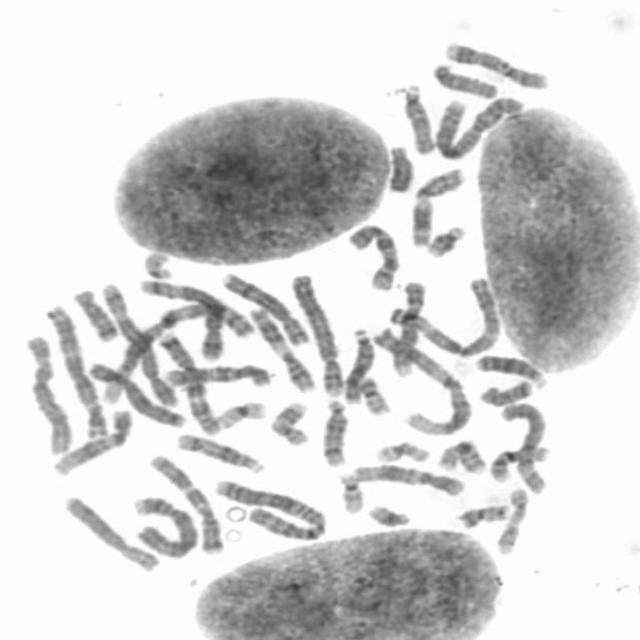A1: (94, 293, 254, 407), (368, 322, 474, 436)
A2: (209, 474, 328, 543), (429, 90, 527, 161)
A3: (40, 300, 110, 440), (391, 272, 501, 359)
B4: (286, 268, 347, 398), (130, 489, 203, 559)
B5: (94, 276, 181, 411), (133, 274, 230, 362)
C10: (342, 218, 403, 293), (158, 358, 274, 390)
C11: (244, 303, 317, 394), (406, 163, 468, 248)
C12: (48, 404, 136, 476), (348, 458, 467, 498)
C6: (20, 330, 74, 455), (495, 396, 550, 495)
C7: (144, 448, 227, 556), (152, 324, 225, 437)
C8: (59, 491, 162, 573), (216, 268, 313, 347)
C9: (441, 37, 551, 90), (389, 274, 430, 378)
D13: (472, 348, 551, 389), (338, 322, 376, 405)
D14: (172, 428, 268, 475), (317, 394, 351, 468)
D15: (398, 80, 438, 156), (428, 58, 500, 100)
E16: (487, 441, 552, 483), (434, 436, 489, 474)
E17: (492, 483, 531, 556), (266, 397, 313, 447)
E18: (69, 285, 122, 343), (474, 376, 536, 408)
F19: (212, 396, 269, 431), (371, 437, 432, 464)
F20: (453, 498, 513, 530), (354, 372, 393, 417)
G21: (422, 220, 469, 259), (364, 499, 414, 528)
G22: (334, 470, 366, 514), (139, 246, 175, 280)
X: (84, 358, 188, 430)
Y: (382, 140, 418, 194)
